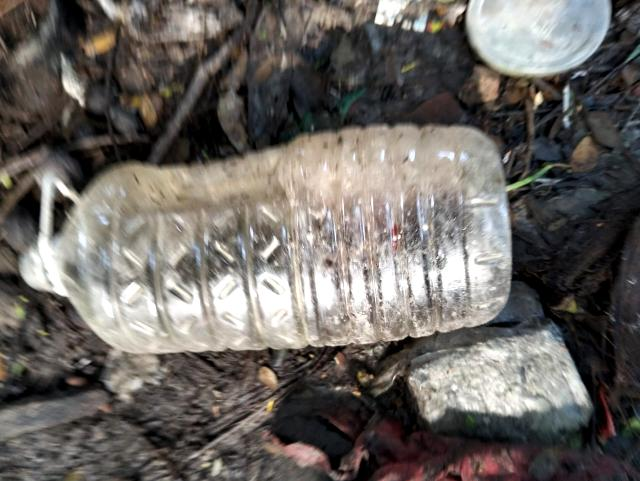bottle: (58, 126, 515, 357)
